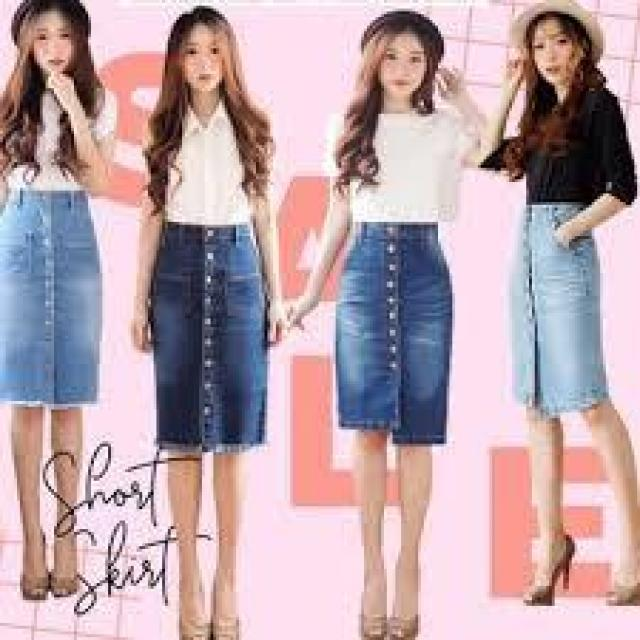skirt: (148, 222, 273, 458), (328, 219, 456, 449), (499, 203, 610, 411), (3, 189, 105, 411)
